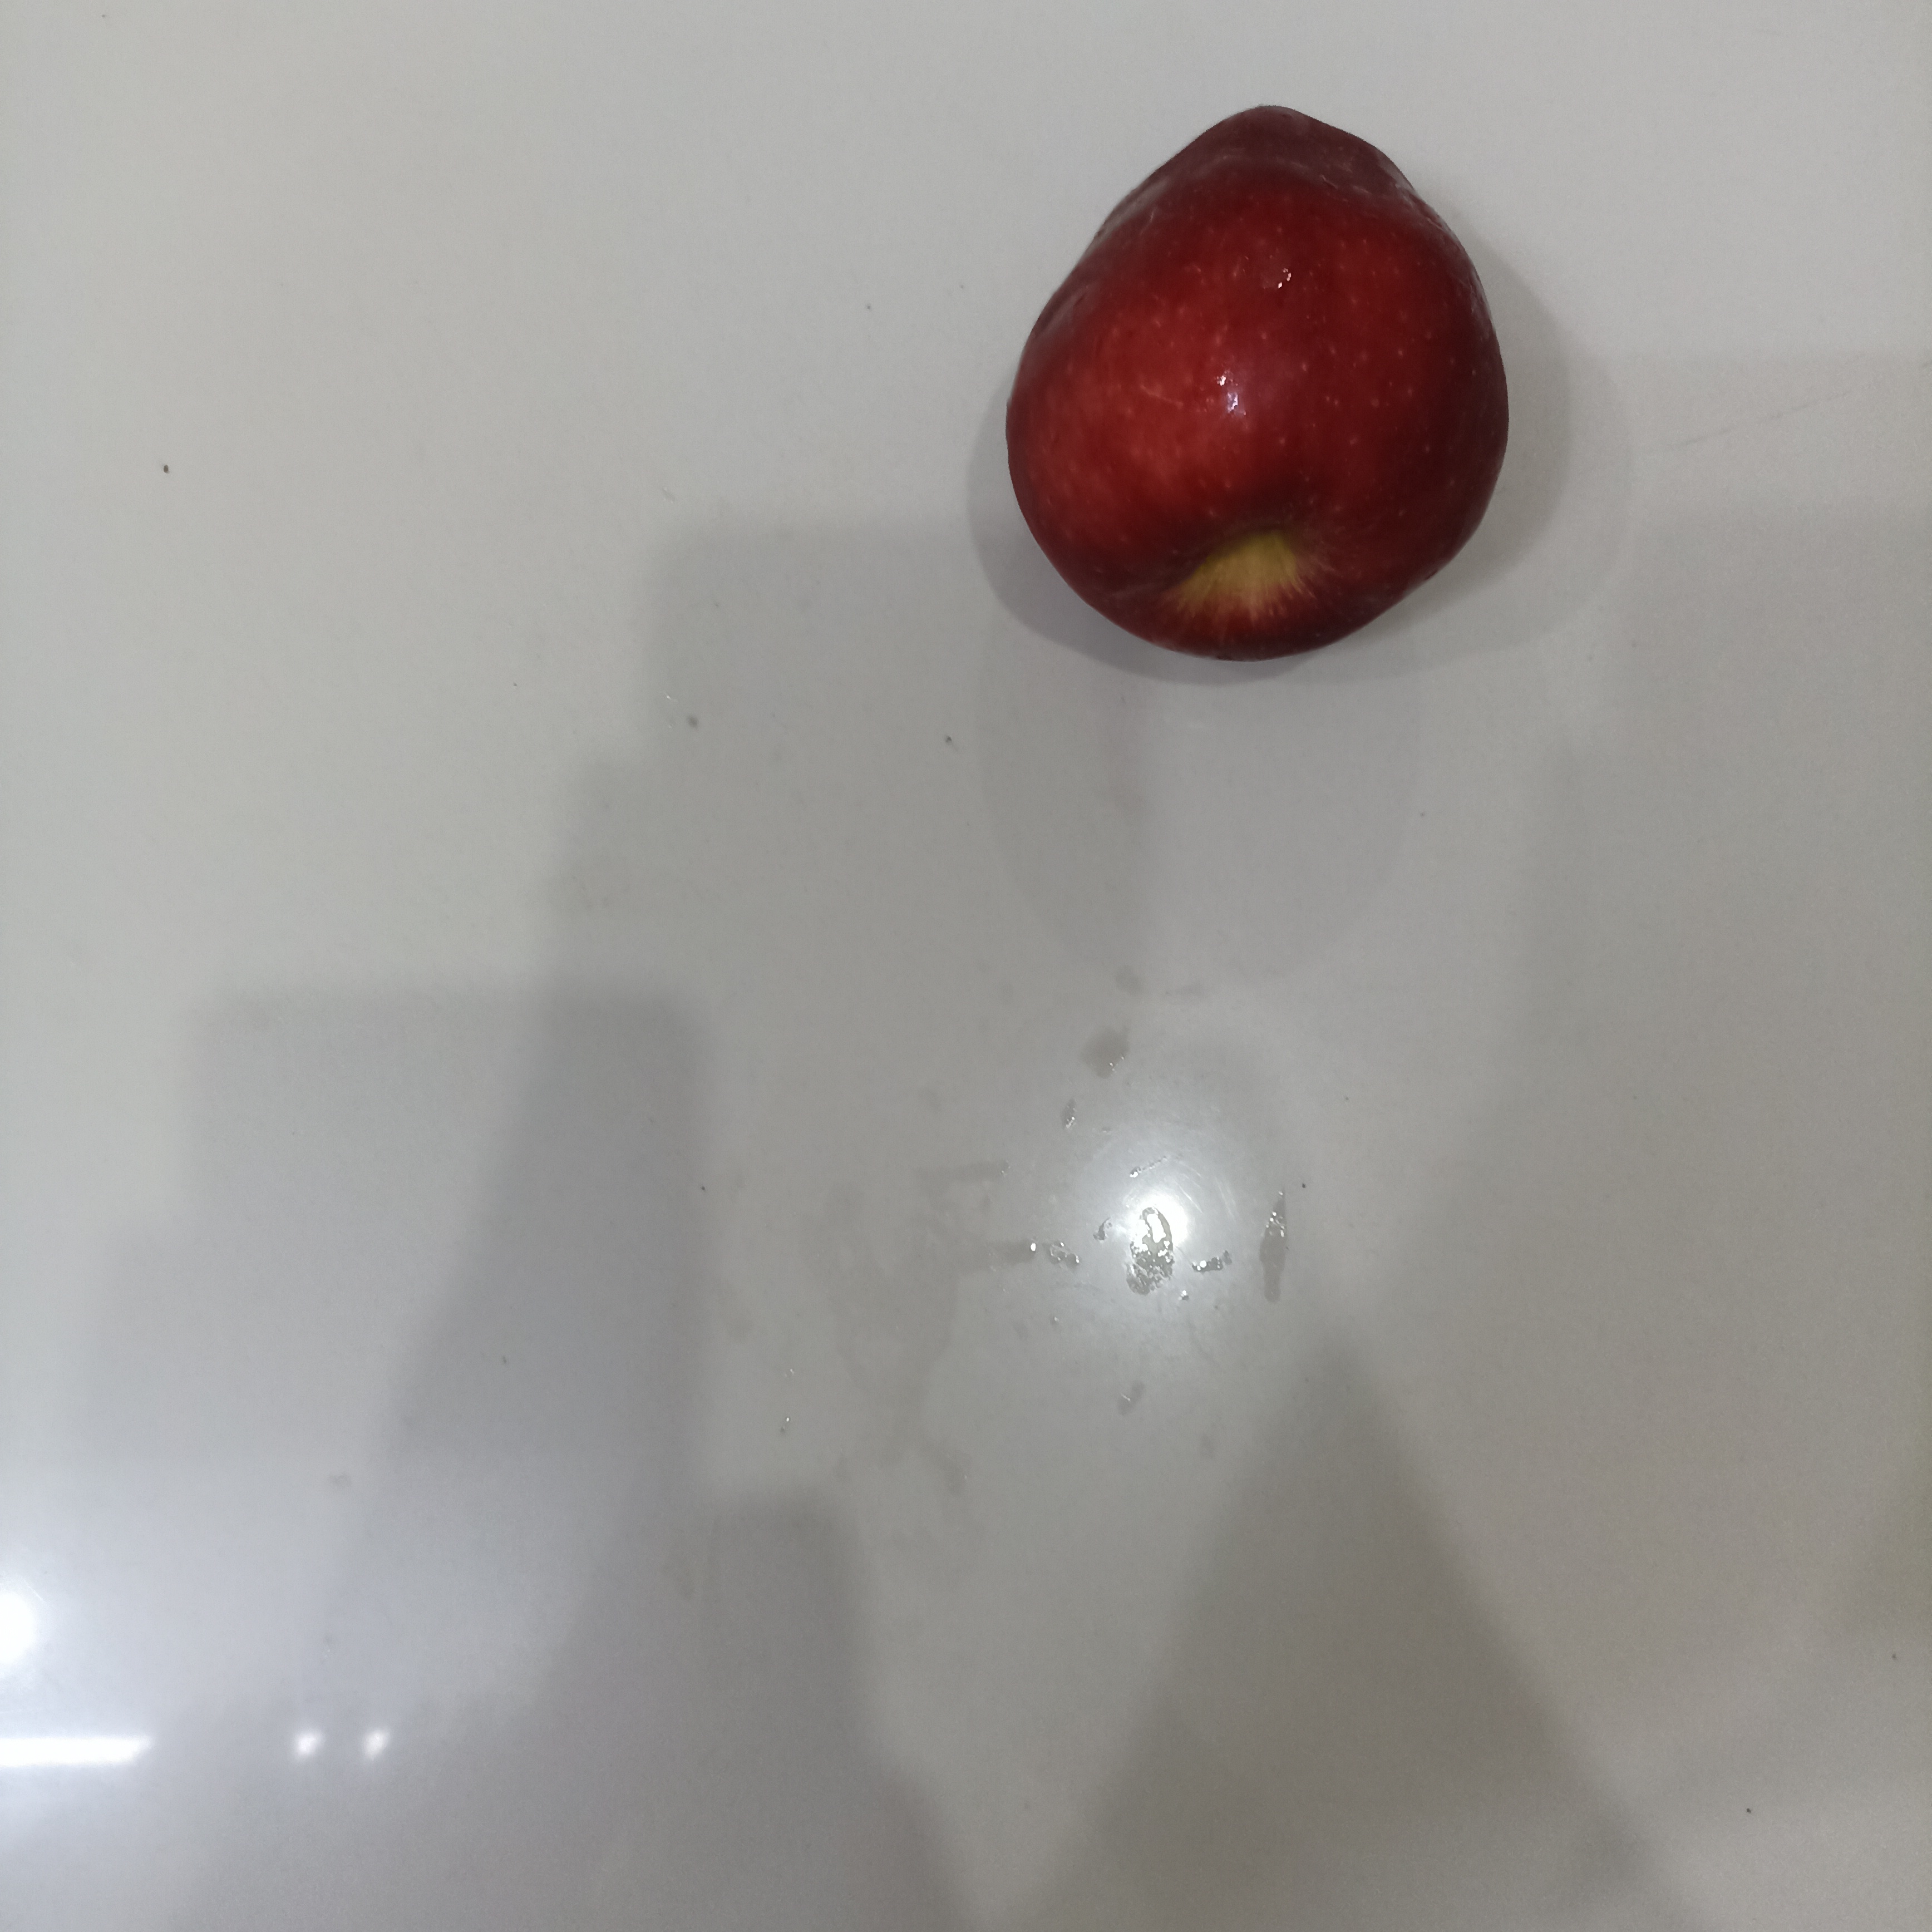Tao do: (1006, 106, 1509, 668)
